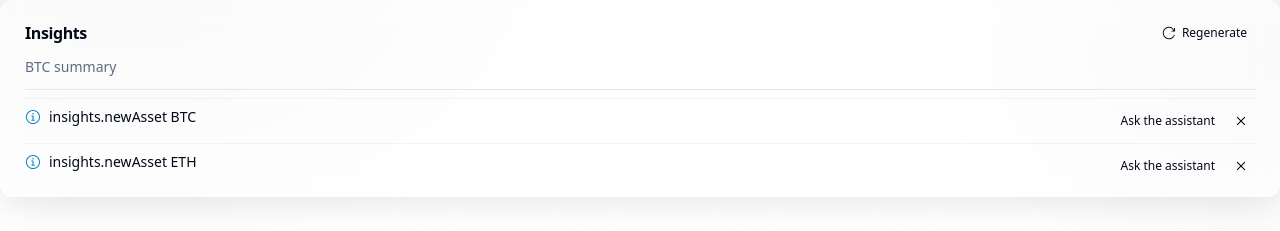
Test: InsightsCard › hides a summary when its insight is dismissed
The width and height of the screenshot is (1280, 231).
Check: the text "BTC summary" is shown, box [25,57,1255,90]
Step 1. Click the button named "Dismiss insight" in the row of "insights.newAsset BTC" → (1241, 121), box [1227,107,1255,135]
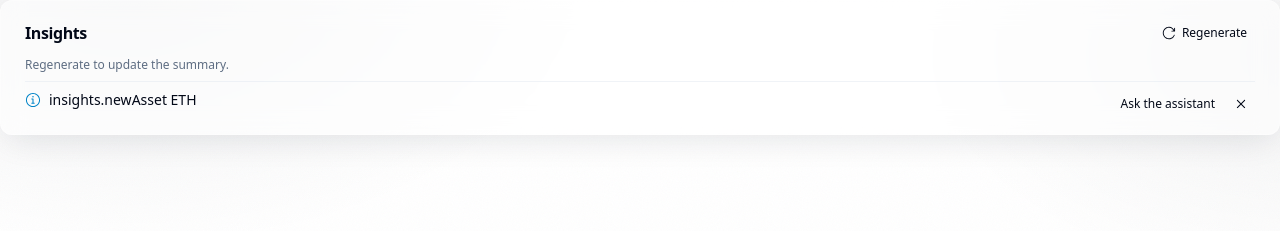
Check: the text "BTC summary" is gone
Check: the text "Regenerate to update the summary." is shown, box [25,56,229,73]
